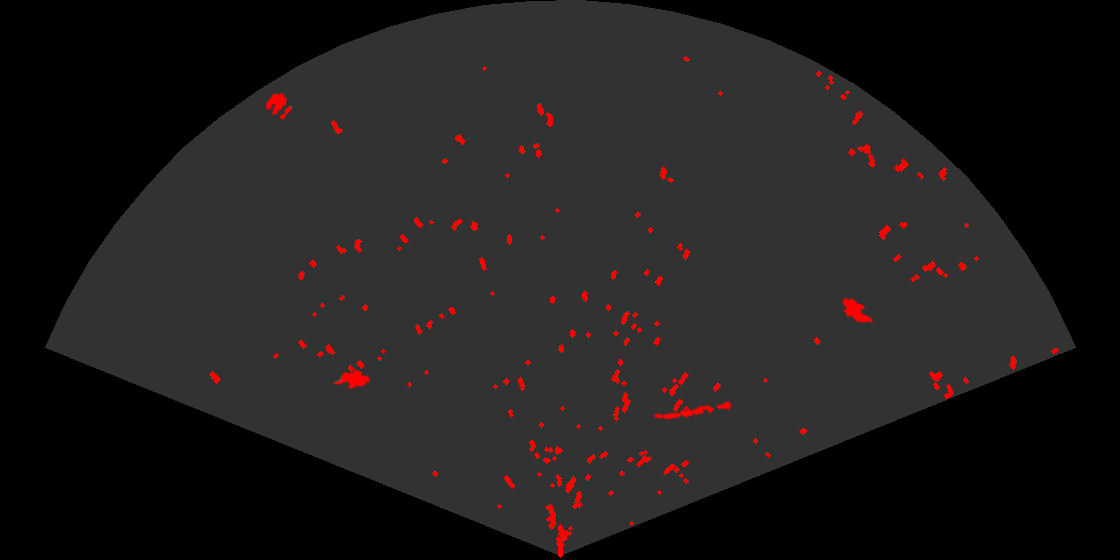AUV: (840, 296, 875, 325), (332, 368, 372, 390)
ball: (264, 91, 294, 121)
chain: (652, 400, 734, 421)
